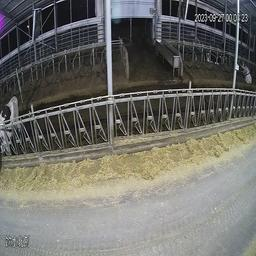cow: (1, 94, 21, 155), (205, 49, 223, 69), (240, 60, 252, 84)
